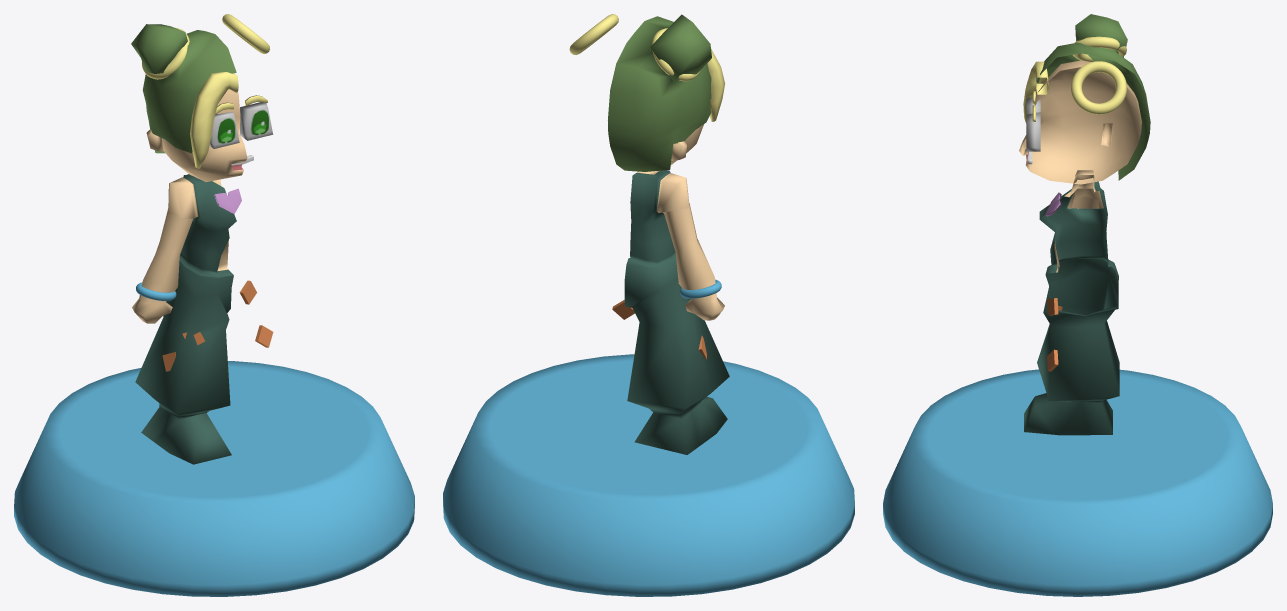
The model's file is jolyne3.gltf.
3 views of the same model, side by side, from view 1: azimuth 30°, elevation 25°; view 2: azimuth 150°, elevation 25°; view 3: azimuth 270°, elevation 25° (orthographic). The views are drawn at different scales.
Parts seen in each view (by area): view 1: sue2, cuerpo, pelo, cabeza, flequillo, ojo2, ojo1, monioDos; view 2: sue2, cuerpo, pelo, flequillo, monioDos; view 3: sue2, cuerpo, cabeza, pelo, monioDos, flequillo, monio, ojo2.
Part boxes in pixels (x1,y1,x2,y2): sue2: (14,361,414,596); cuerpo: (132,174,236,464); pelo: (131,24,236,153); cabeza: (146,89,247,181); flequillo: (190,72,238,168); ojo2: (240,102,273,140); ojo1: (209,112,239,148); monioDos: (222,14,269,53); sue2: (443,354,854,596); cuerpo: (624,170,729,454); pelo: (608,14,711,171); flequillo: (707,48,725,121); monioDos: (569,14,618,54); sue2: (883,369,1272,596); cuerpo: (1024,170,1119,435); cabeza: (1019,60,1141,184); pelo: (1037,14,1150,180); monioDos: (1070,61,1126,114); flequillo: (1023,61,1048,123); monio: (1073,36,1126,61); ojo2: (1026,112,1040,151).
Size of the model in its own units: 2.52 by 3.41 by 2.52.
9 materials, 1 textured.
